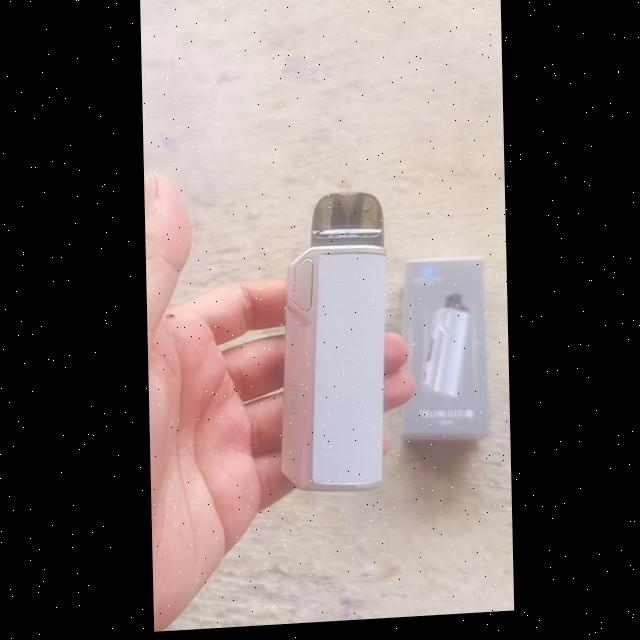vape: (274, 191, 390, 497), (420, 297, 467, 404)
